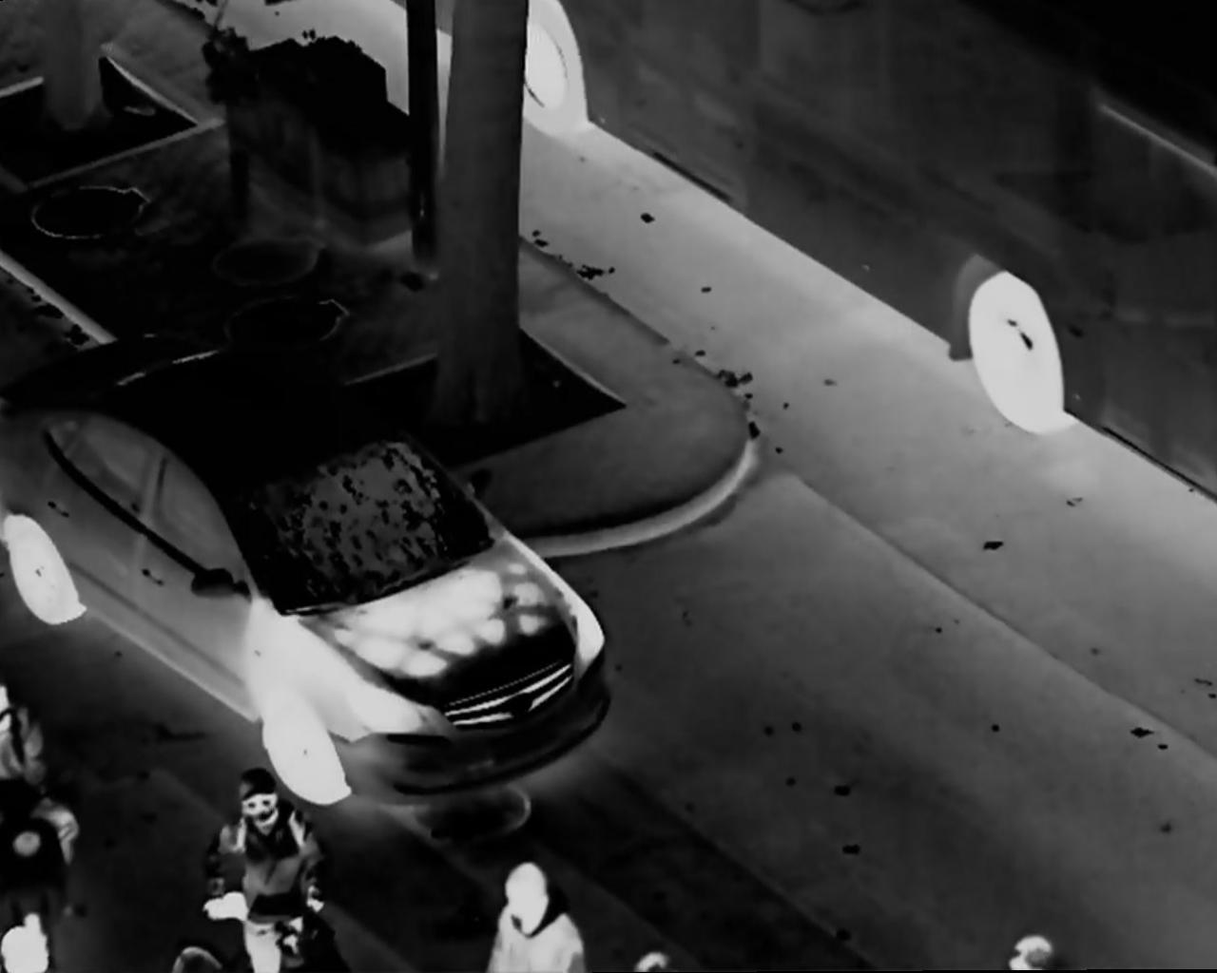person: (205, 761, 314, 973), (478, 842, 597, 973)
